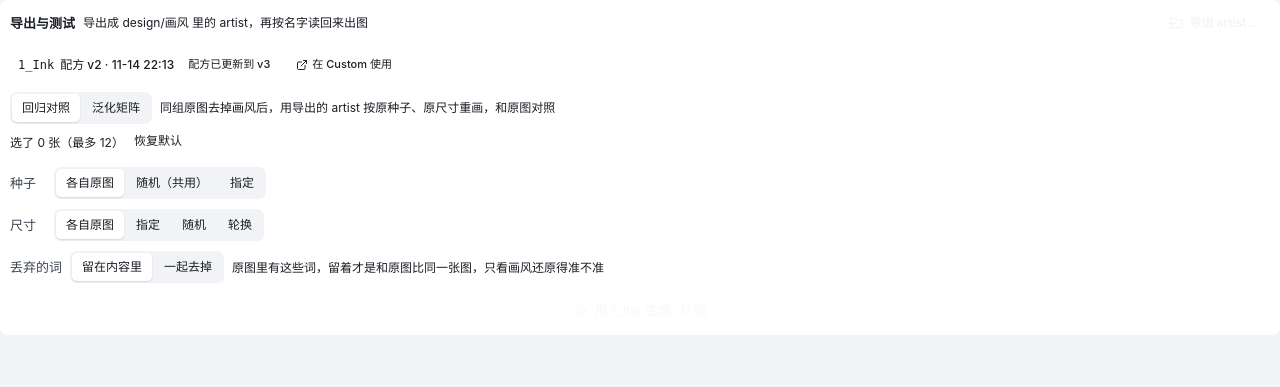
Test: ArtistTestPanel › needs a character or action before a matrix run
Click the radio button labelled "泛化矩阵" at (116, 108), box x1=82 y1=94 x2=150 y2=122
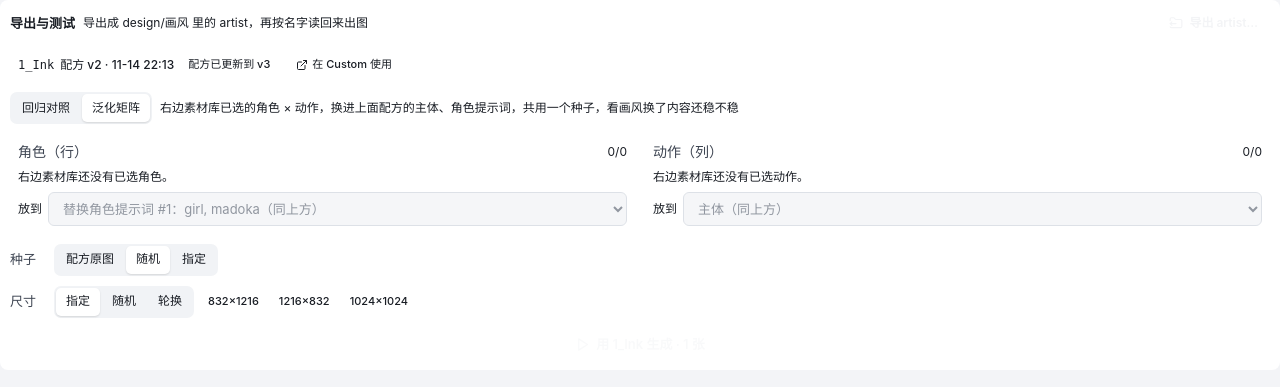
Result: the text "右边素材库还没有已选角色。" is shown at x1=18 y1=169 x2=174 y2=184
